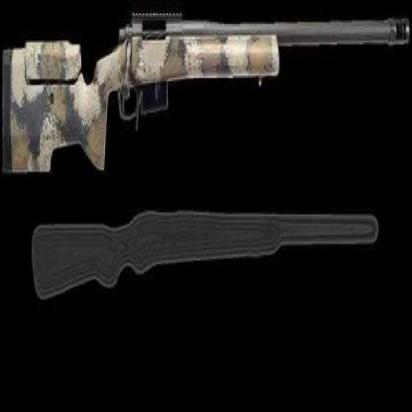Gun: (0, 0, 408, 180)
